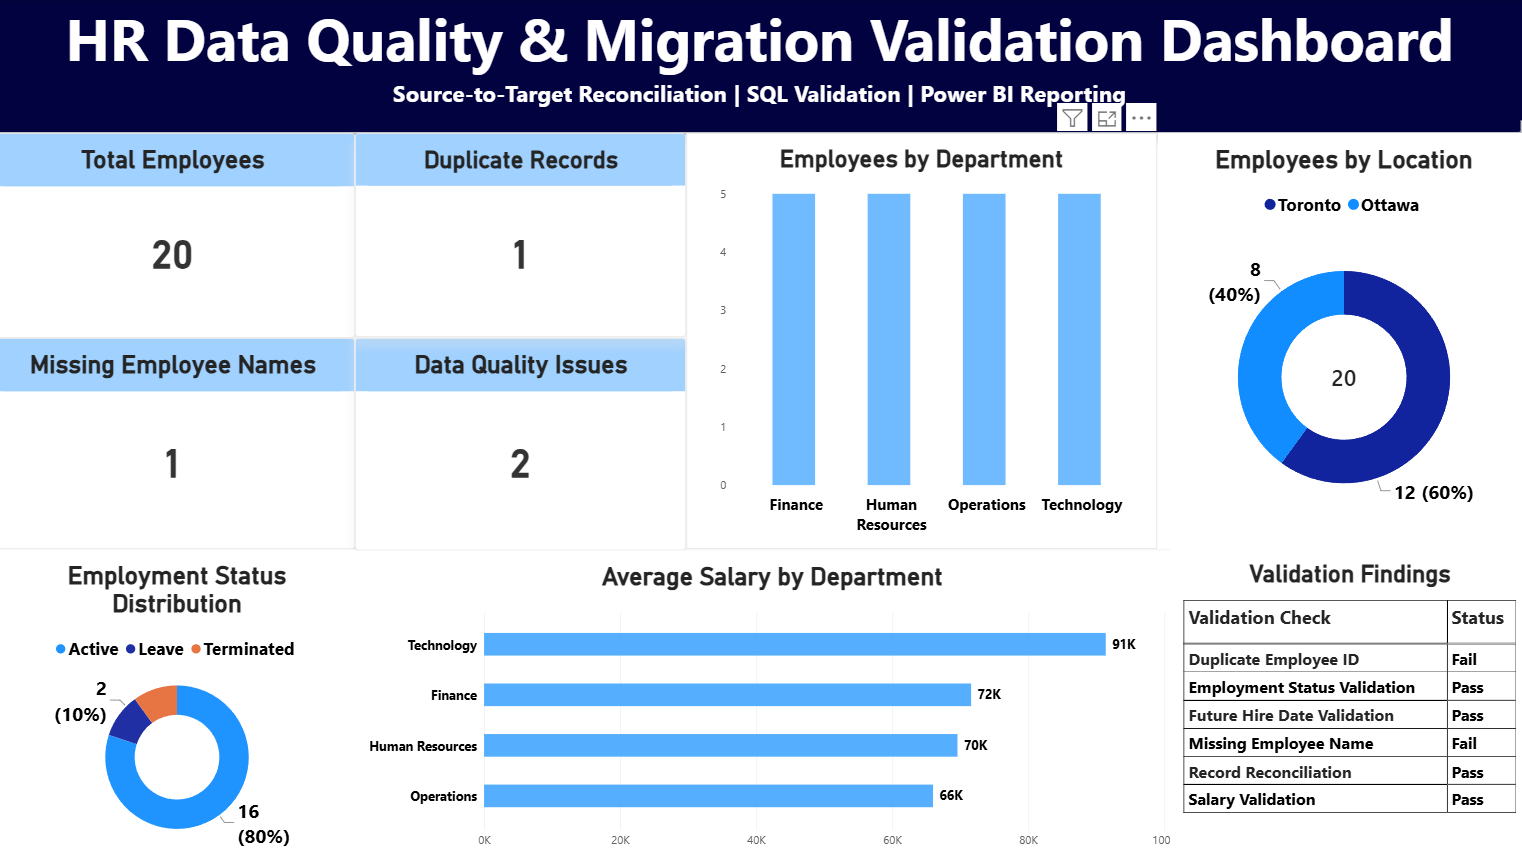

The dashboard page shown, as its layout file describes it:
{"tool":"powerbi","page":{"name":"Page 1","canvas":[1920,1080],"ordinal":0},"visuals":[{"type":"textbox","title":"HR Data Quality & Migration Validation Dashboard","box":[0,0,1918,168],"z":0},{"type":"advanceCardE03760C5AB684758B56AA29F9E6C257B","title":"Total Employees","fields":{"mainMeasure":["CountNonNull(Findings.EmployeeID)"]},"box":[0,168.8,454.9,255.2],"z":1000},{"type":"advanceCardE03760C5AB684758B56AA29F9E6C257B","title":"Missing Employee Names","fields":{"mainMeasure":["Findings.Missing Employee Names"]},"box":[0,424,454.9,263.5],"z":2000},{"type":"advanceCardE03760C5AB684758B56AA29F9E6C257B","title":"Data Quality Issues","fields":{"mainMeasure":["Findings.Data Quality Issues"]},"box":[455.4,423.3,412.7,265.1],"z":3000},{"type":"advanceCardE03760C5AB684758B56AA29F9E6C257B","title":"Duplicate Records","fields":{"mainMeasure":["Findings.Duplicate Records"]},"box":[455.4,168.9,412.7,254.4],"z":4000},{"type":"columnChart","title":"Employees by Department","fields":{"Category":["Findings.Department"],"Y":["CountNonNull(Findings.EmployeeID)"]},"box":[868.6,168.8,586.6,518.7],"z":5000},{"type":"donutChart","title":"Employees by Location","fields":{"Category":["Findings.Location"],"Y":["CountNonNull(Findings.EmployeeID)"]},"box":[1455.2,168.8,465.2,518.7],"z":6000},{"type":"pieChart","title":"Employment Status Distribution","fields":{"Category":["Findings.EmploymentStatus"],"Y":["CountNonNull(Findings.EmployeeID)"]},"box":[10.3,687.5,444.6,393.1],"z":7000},{"type":"clusteredBarChart","title":"Average Salary by Department","fields":{"Category":["Findings.Department"],"Y":["Avg(Findings.AnnualSalary)"]},"box":[455.4,688.5,1041.2,391.3],"z":8000},{"type":"tableEx","title":"Validation Findings","fields":{"Values":["Validation Findings.Validation Check","Validation Findings.Status"]},"box":[1471,686.3,449,393.4],"z":8001}]}

Visuals, with their boxes in screenshot pixels (x1, y1, x2, y2), scaled from the page's 1920x1080 canvas onto the 1522x854 screenshot:
"HR Data Quality & Migration Validation Dashboard" textbox: box(0, 0, 1520, 133)
"Total Employees" advanceCardE03760C5AB684758B56AA29F9E6C257B: box(0, 133, 361, 335)
"Missing Employee Names" advanceCardE03760C5AB684758B56AA29F9E6C257B: box(0, 335, 361, 544)
"Data Quality Issues" advanceCardE03760C5AB684758B56AA29F9E6C257B: box(361, 335, 688, 544)
"Duplicate Records" advanceCardE03760C5AB684758B56AA29F9E6C257B: box(361, 134, 688, 335)
"Employees by Department" columnChart: box(689, 133, 1154, 544)
"Employees by Location" donutChart: box(1154, 133, 1521, 544)
"Employment Status Distribution" pieChart: box(8, 544, 361, 853)
"Average Salary by Department" clusteredBarChart: box(361, 544, 1186, 853)
"Validation Findings" tableEx: box(1166, 543, 1521, 853)
